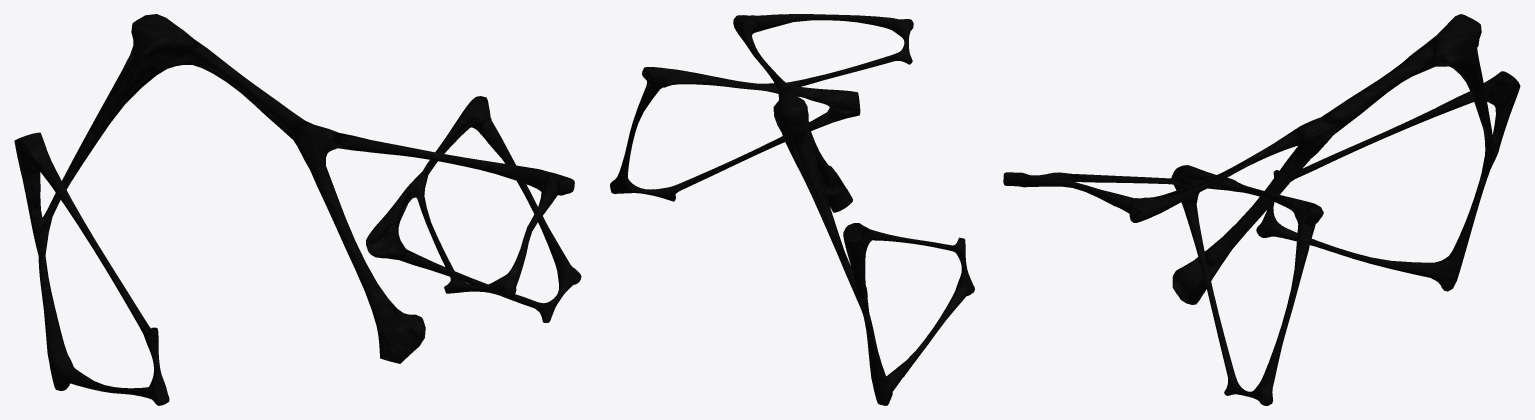
The model's file is blackspider01.obj.
3 views of the same model, side by side, from view 1: azimuth 30°, elevation 25°; view 2: azimuth 150°, elevation 25°; view 3: azimuth 270°, elevation 25° (orthographic). The views are drawn at different scales.
Visible parts, largest first — view 1: Plane.006_Plane.008; view 2: Plane.006_Plane.008; view 3: Plane.006_Plane.008.
Part boxes in pixels (x1=…): Plane.006_Plane.008: x1=14, y1=14, x2=581, y2=405; Plane.006_Plane.008: x1=610, y1=14, x2=974, y2=405; Plane.006_Plane.008: x1=1003, y1=14, x2=1520, y2=405.
Bounding box in the file's own units: 30.3 × 23.07 × 34.08.
1 material, 1 textured.
